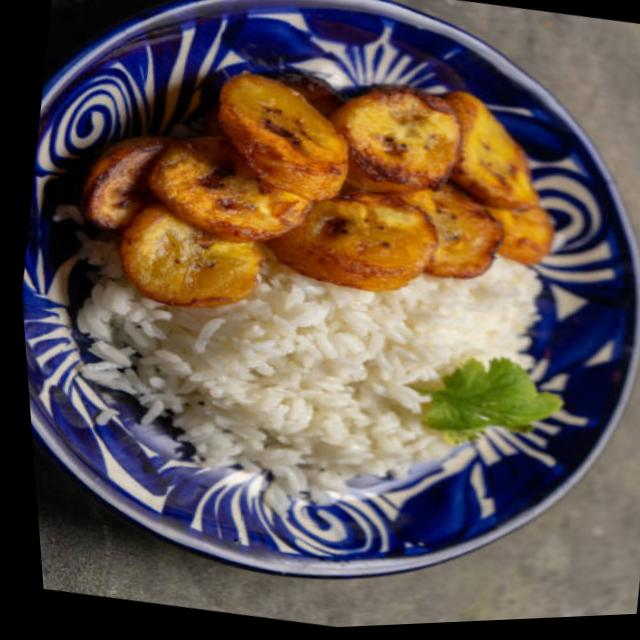BANANA CHIPS: (73, 66, 556, 310)
RICE: (86, 252, 542, 502)
